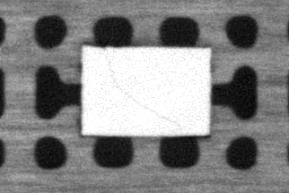DIE_CRACK: (114, 84, 180, 124)
